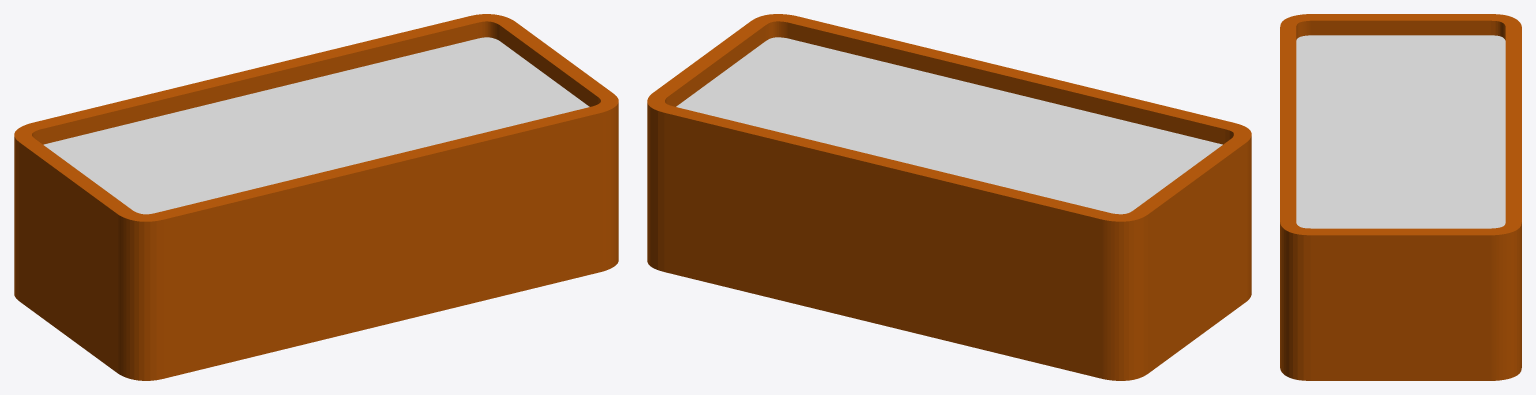
File: USD.glb
3 renders of one model, left to right at view 1: azimuth 30°, elevation 25°; view 2: azimuth 150°, elevation 25°; view 3: azimuth 270°, elevation 25°, orthographic. The views are drawn at different scales.
Visible parts, largest first — view 1: USD; view 2: USD; view 3: USD.
Boxes of the visible parts, x1=… form: USD: x1=14, y1=14, x2=618, y2=380; USD: x1=647, y1=14, x2=1251, y2=380; USD: x1=1280, y1=14, x2=1521, y2=380.
Size of the model in its own units: 0.0193 by 0.00594 by 0.00893.
